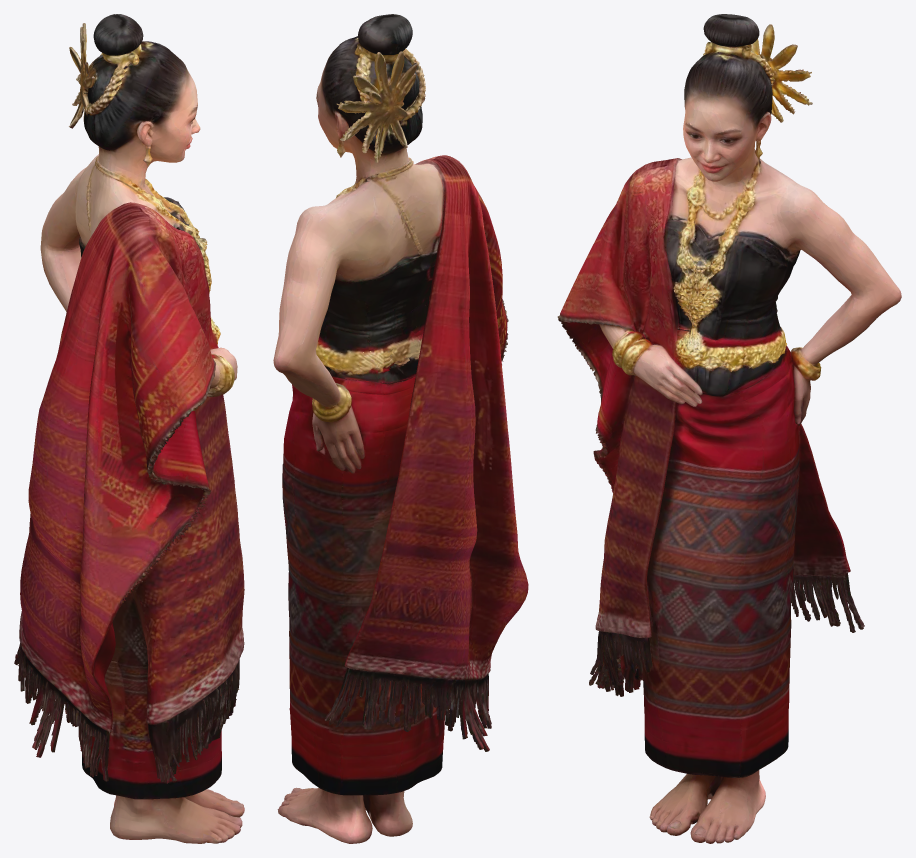
The model's file is busana-ulos.glb.
The picture shows the model from 3 angles, left to right: view 1: azimuth 30°, elevation 25°; view 2: azimuth 150°, elevation 25°; view 3: azimuth 270°, elevation 25°; orthographic projection. The views are drawn at different scales.
Parts seen in each view (by area): view 1: Mesh_0_modddif_material_0_0; view 2: Mesh_0_modddif_material_0_0; view 3: Mesh_0_modddif_material_0_0.
Boxes of the visible parts, <box> form: Mesh_0_modddif_material_0_0: <box>14,14,244,843</box>; Mesh_0_modddif_material_0_0: <box>273,14,528,843</box>; Mesh_0_modddif_material_0_0: <box>557,14,901,843</box>.
Bounding box in the file's own units: 0.262 × 1 × 0.4007.
1 material, 1 textured.
